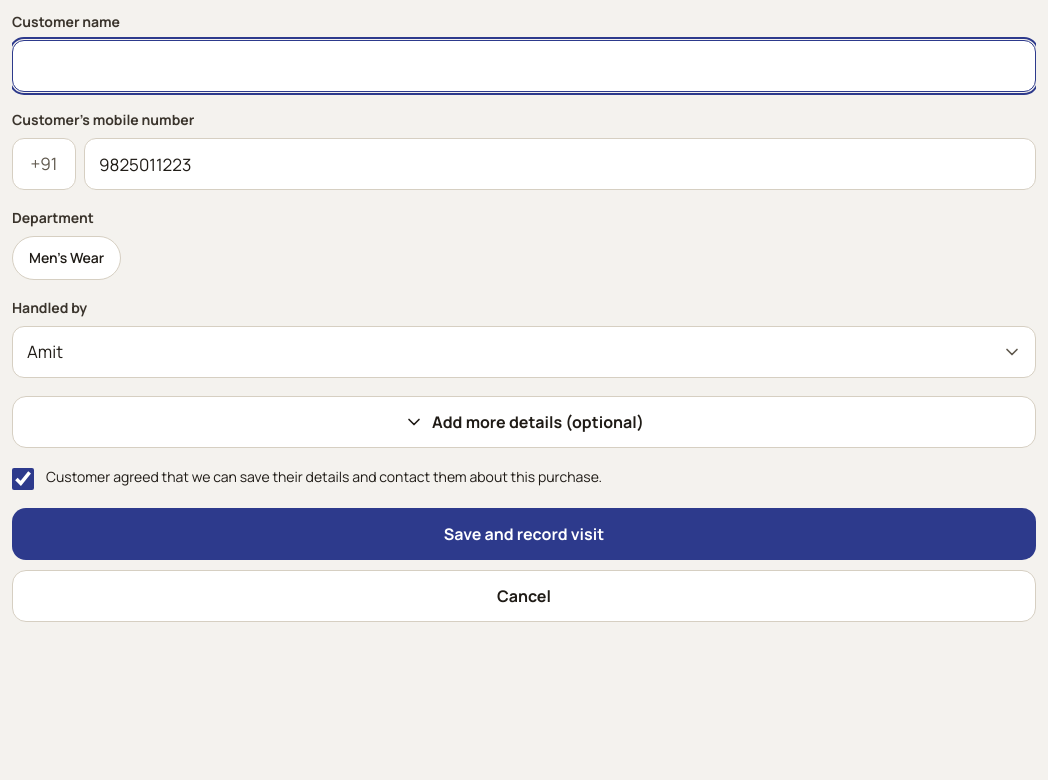
it: CustomerForm › keeps the extra details out of the way until they are asked for
Expected: the field labelled "Area" is not shown
Click the button "Add more details (optional)": (524, 422) [12,396,1036,448]
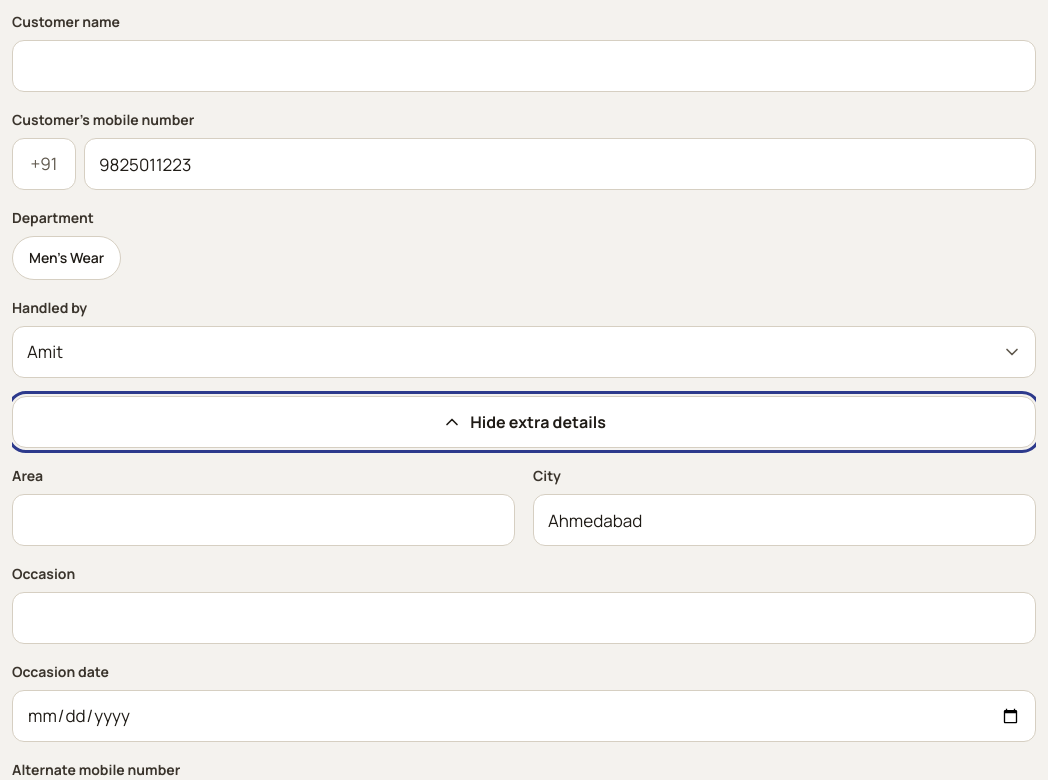
Now the field labelled "Area" is shown, box [12,494,515,546]
Now the field labelled "City" holds "Ahmedabad", box [533,494,1036,546]
